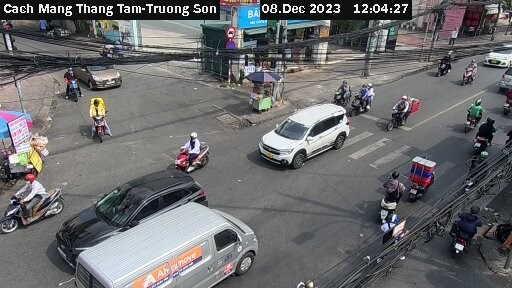car: (76, 203, 269, 287), (55, 165, 209, 252), (259, 100, 350, 170), (69, 50, 125, 84), (483, 39, 512, 67), (495, 64, 512, 91)
motorbike: (1, 177, 66, 232), (440, 203, 482, 254), (172, 135, 217, 180), (367, 172, 409, 218), (383, 93, 428, 134), (78, 103, 124, 142), (349, 84, 382, 116), (453, 96, 487, 126), (60, 69, 91, 101), (466, 116, 501, 143), (326, 78, 358, 105), (455, 55, 481, 84), (431, 52, 454, 72)
